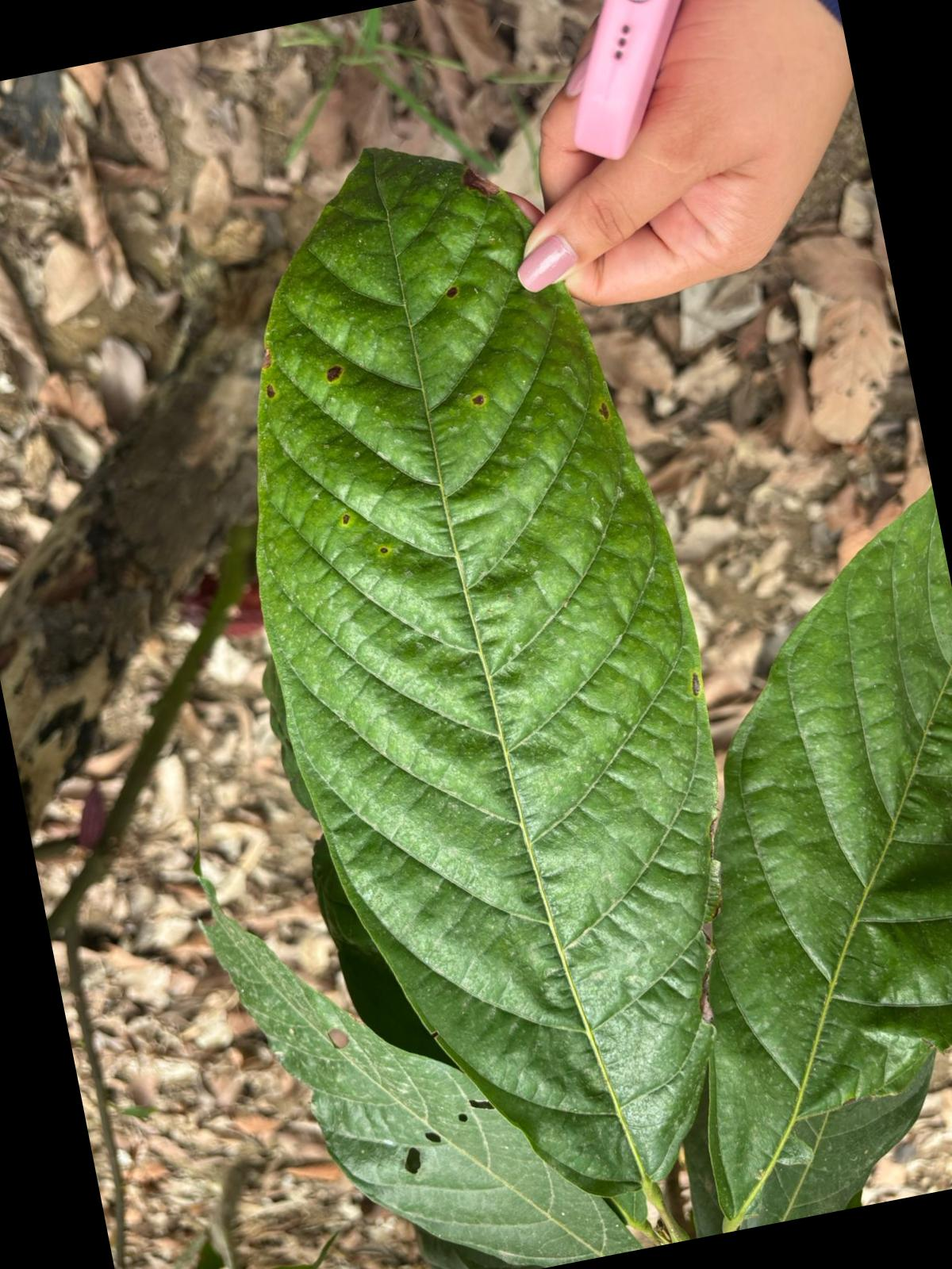Fosforo: (259, 151, 715, 1195)
